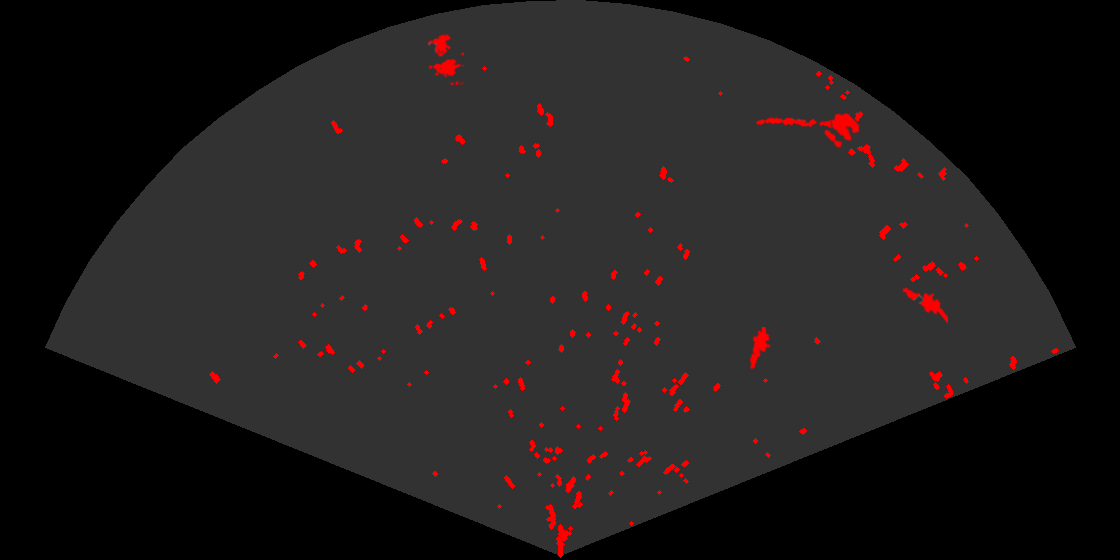ball: (823, 111, 861, 149)
cage: (426, 32, 464, 85)
chain: (755, 116, 836, 130)
frogman: (899, 282, 948, 324), (748, 327, 773, 369)
